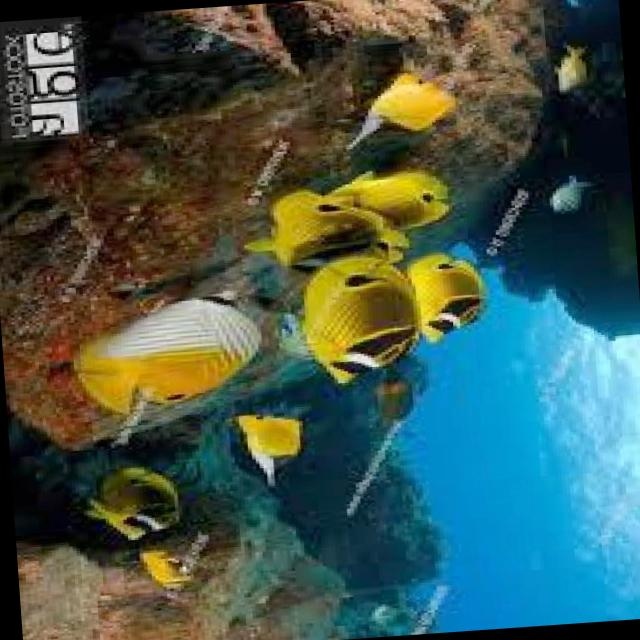ButterflyFish: (70, 282, 277, 429), (293, 253, 427, 378), (255, 180, 396, 292), (300, 154, 468, 237), (324, 57, 472, 146), (404, 239, 494, 353), (207, 393, 300, 500), (108, 528, 231, 605), (83, 465, 196, 548), (536, 18, 608, 120), (528, 151, 602, 221)
